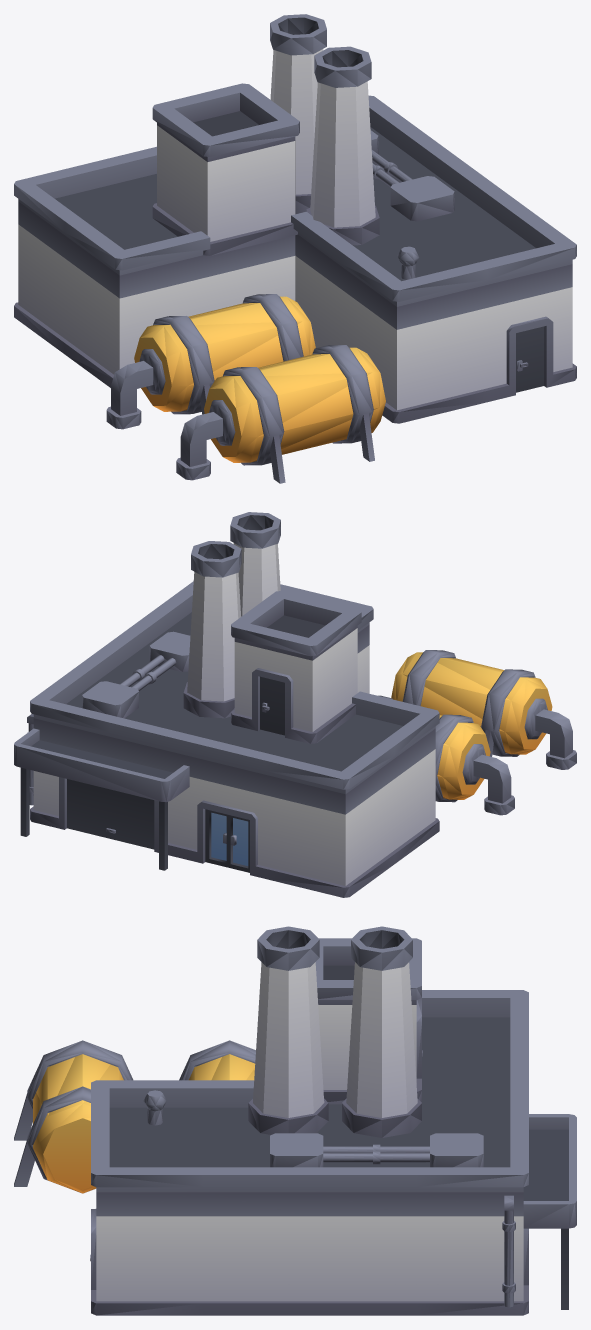
File: industrial_b.glb
3 views of the same model, one above another, from view 1: azimuth 30°, elevation 25°; view 2: azimuth 150°, elevation 25°; view 3: azimuth 270°, elevation 25° (orthographic). The views are drawn at different scales.
Visible parts, largest first — view 1: building-c; view 2: building-c; view 3: building-c.
Boxes of the visible parts, bbox=[...] form: building-c: bbox=[14, 14, 576, 483]; building-c: bbox=[14, 512, 576, 897]; building-c: bbox=[14, 926, 576, 1315].
Size of the model in its own units: 12.01 by 8 by 13.49.
2 materials, 2 textured.
